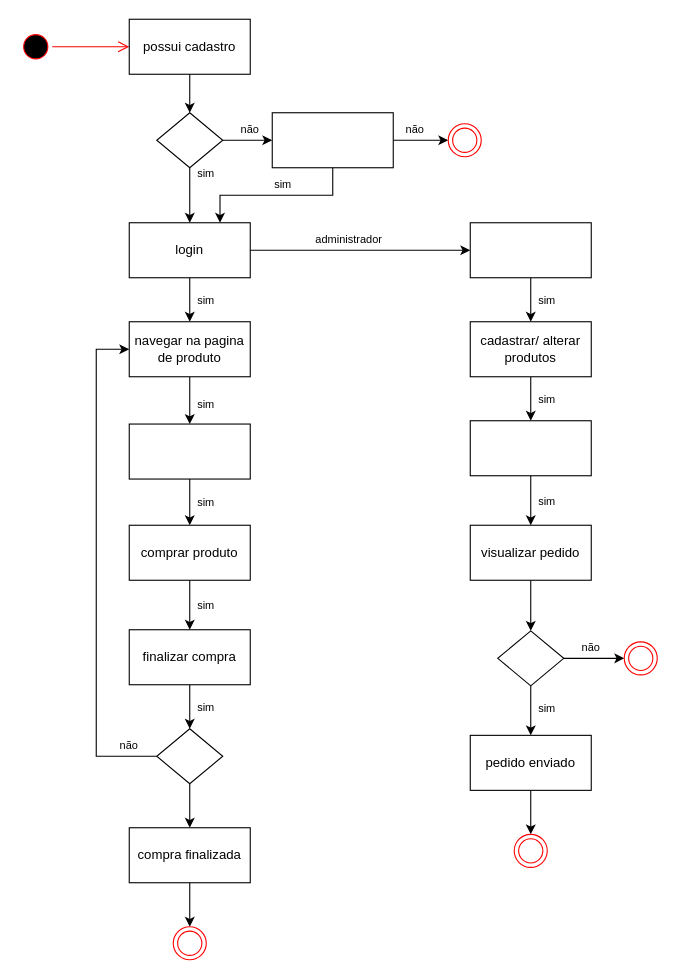
This 677x979 diagram has some shape labels left out. The shapes that lost their labels are listed below. From the top down, each one's centre as x and y in pixels, then its label:
At (332,140): "fazer cadastro".
At (530,250): "página administrador".
At (189,451): "escolher produto".
At (530,448): "monitorar entregas".
